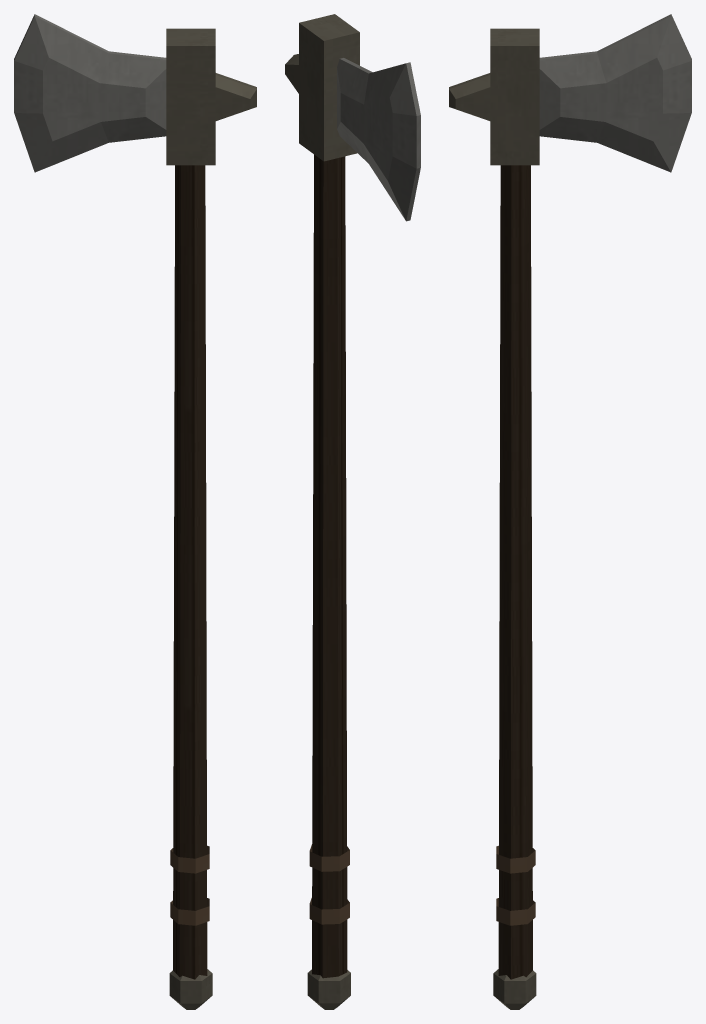
The model's file is wpn_axe_common.glb.
3 renders of one model, left to right at view 1: azimuth 90°, elevation 25°; view 2: azimuth 210°, elevation 25°; view 3: azimuth 270°, elevation 25°, orthographic.
Visible parts, largest first — view 1: wpn_axe_common; view 2: wpn_axe_common; view 3: wpn_axe_common.
Part boxes in pixels (left/top/right/bottom): wpn_axe_common: left=14, top=14, right=256, bottom=1009; wpn_axe_common: left=285, top=14, right=420, bottom=1009; wpn_axe_common: left=449, top=14, right=691, bottom=1009.
Bounding box in the file's own units: 0.05 × 1.33 × 0.295.
Materials: 4 (4 with a texture image).
